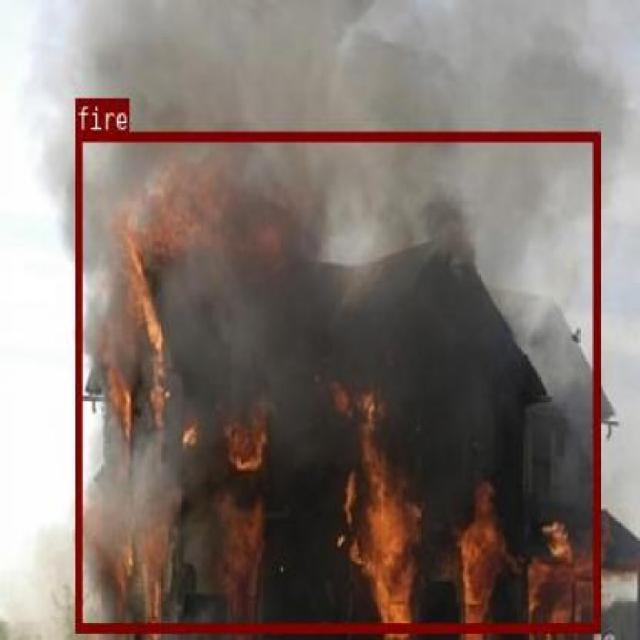Fire: (75, 131, 600, 631)
